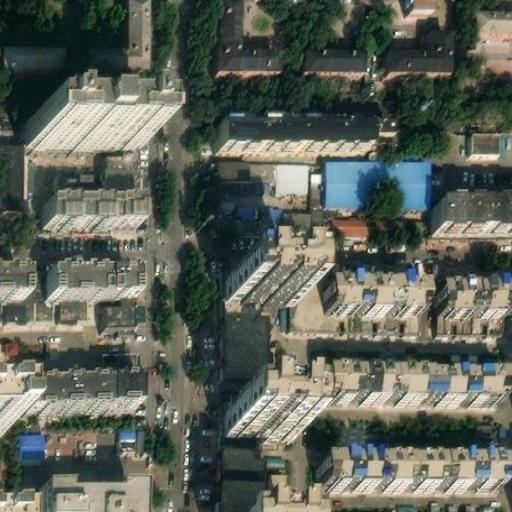building: (324, 362, 499, 399), (318, 453, 498, 487), (325, 153, 429, 203), (216, 117, 370, 146), (89, 0, 151, 67), (23, 371, 135, 406), (27, 107, 142, 141), (222, 294, 269, 377), (221, 432, 269, 512), (326, 274, 422, 309), (387, 22, 454, 65), (223, 256, 296, 295), (223, 394, 295, 433), (43, 194, 139, 223), (431, 203, 512, 233), (47, 268, 134, 294), (442, 280, 512, 312), (33, 492, 130, 512), (310, 201, 372, 232), (5, 38, 65, 65), (305, 39, 369, 64), (107, 140, 140, 180), (275, 156, 311, 187), (215, 172, 275, 189), (219, 155, 275, 173), (277, 206, 311, 232), (476, 3, 512, 26), (119, 423, 146, 451), (241, 211, 277, 232), (105, 294, 134, 320), (18, 427, 44, 456), (467, 130, 498, 151), (310, 166, 325, 201), (57, 292, 78, 315)
